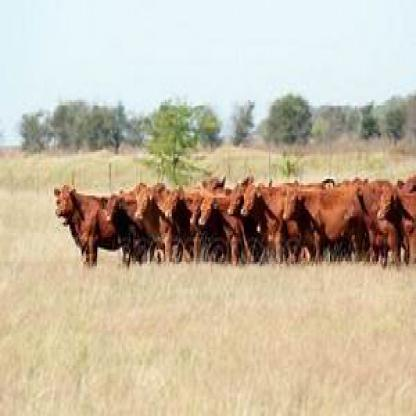cow: (276, 177, 362, 260), (47, 187, 117, 273), (372, 183, 414, 270), (235, 187, 282, 260), (127, 187, 166, 262), (211, 193, 259, 245), (96, 196, 127, 270)
